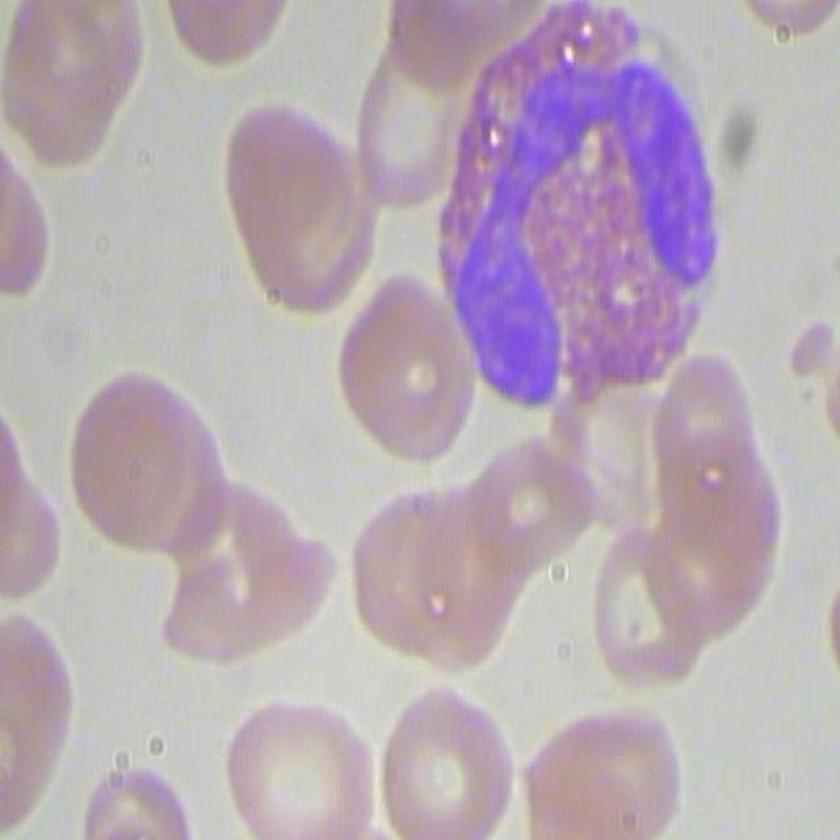neutrophil: (413, 4, 732, 440)
